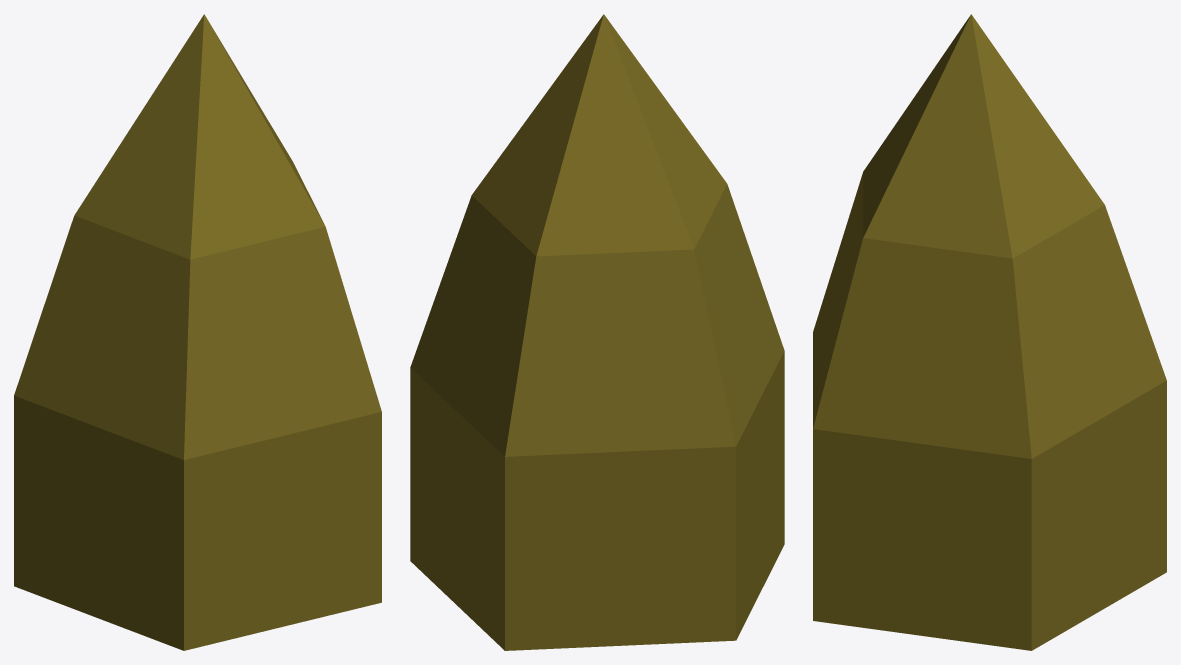
Rendered from mermi.fbx.
3 renders of one model, left to right at view 1: azimuth 30°, elevation 25°; view 2: azimuth 150°, elevation 25°; view 3: azimuth 270°, elevation 25°, orthographic.
Visible parts, largest first — view 1: Cylinder; view 2: Cylinder; view 3: Cylinder.
Part boxes in pixels (<box>): Cylinder: <box>14,14,381,650</box>; Cylinder: <box>410,14,784,650</box>; Cylinder: <box>813,14,1166,650</box>.
Size of the model in its own units: 153 by 254 by 146.
